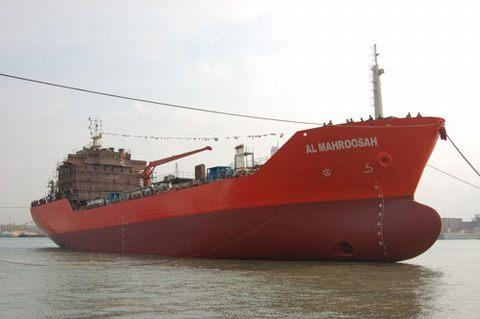Cargoship: (26, 44, 448, 267)
